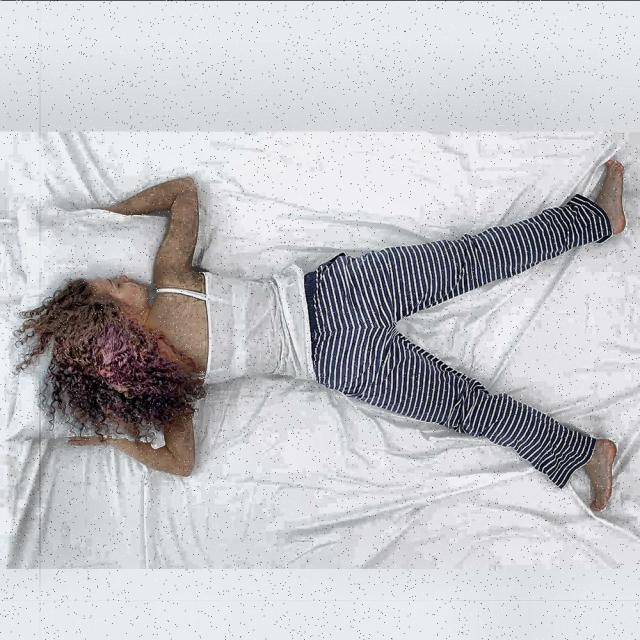Not_Supine: (19, 160, 625, 510)
